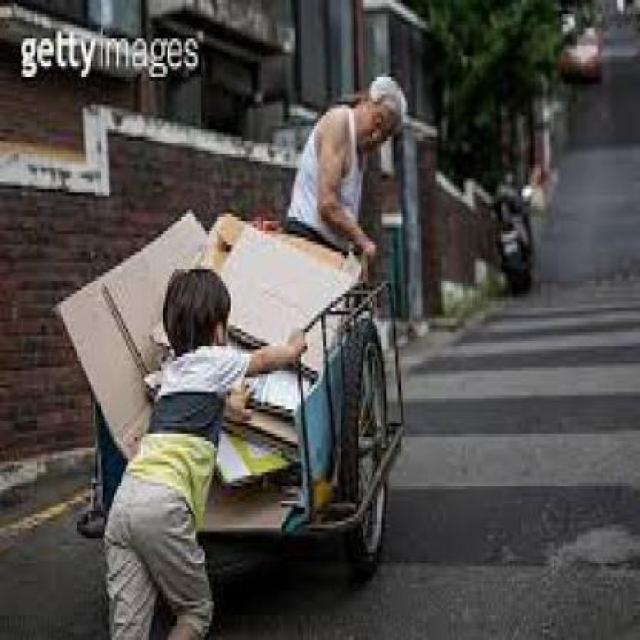Person: (104, 272, 304, 637), (281, 74, 407, 258)
